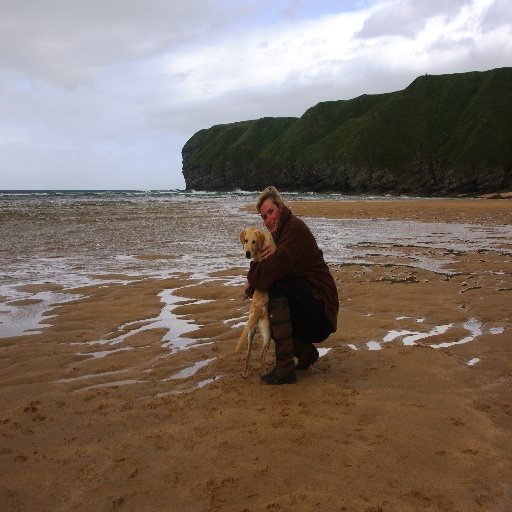hand: (252, 240, 270, 261), (243, 279, 254, 299)
